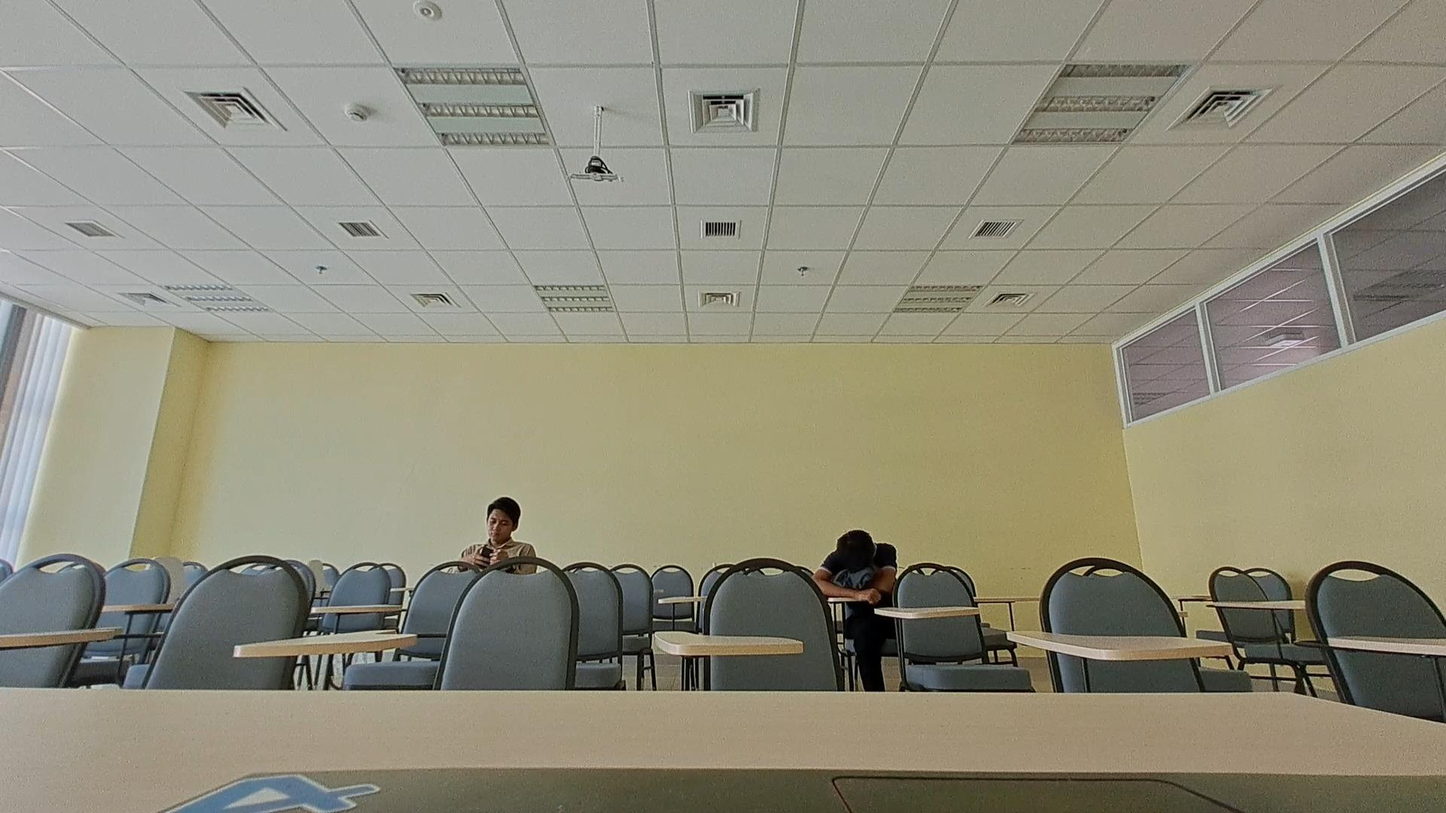phone: (810, 529, 898, 604)
study: (457, 495, 538, 578)
